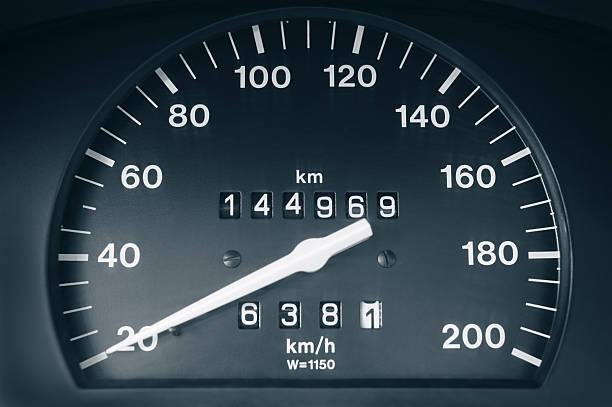odometer: (211, 186, 405, 225)
